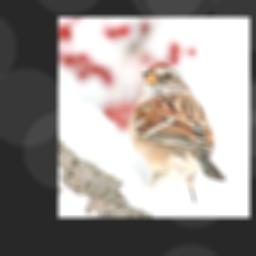Sparrow: (127, 62, 226, 204)
